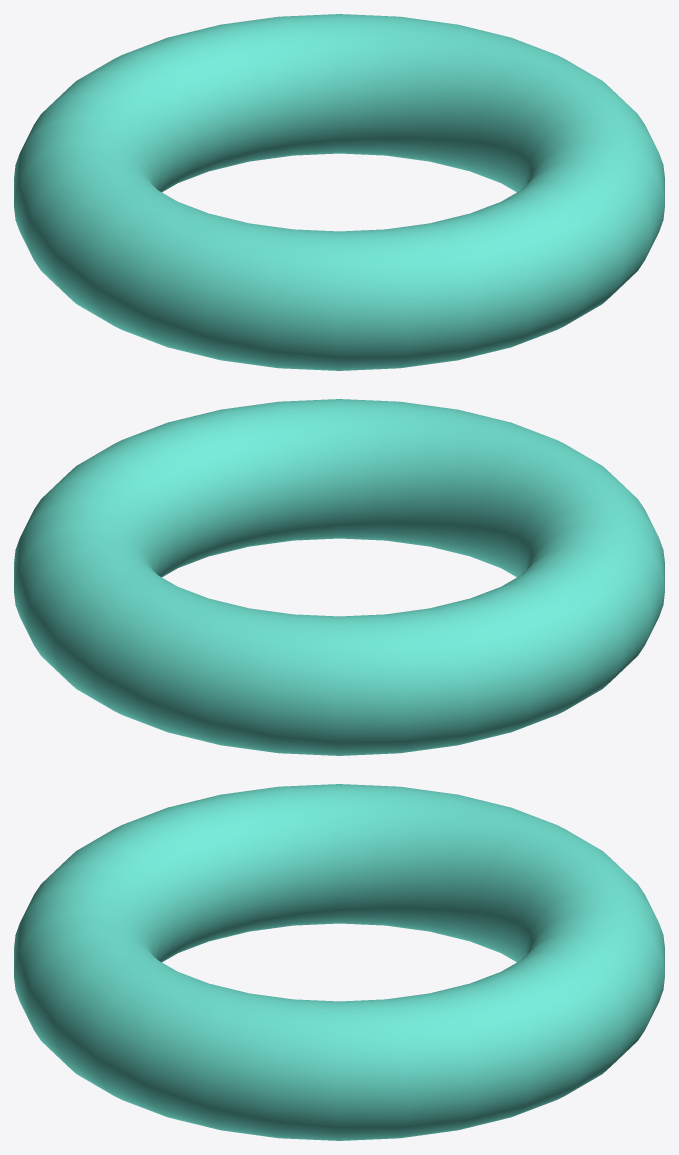
Rendered from photon-wave.glb.
3 views of the same model, one above another, from view 1: azimuth 30°, elevation 25°; view 2: azimuth 150°, elevation 25°; view 3: azimuth 270°, elevation 25° (orthographic).
Visible parts, largest first — view 1: Torus.002; view 2: Torus.002; view 3: Torus.002.
Part boxes in pixels (x1,y1,x2,y2): Torus.002: (14, 14, 664, 370); Torus.002: (14, 399, 664, 755); Torus.002: (14, 784, 664, 1140).
Size of the model in its own units: 3.21 by 0.6822 by 3.19.
